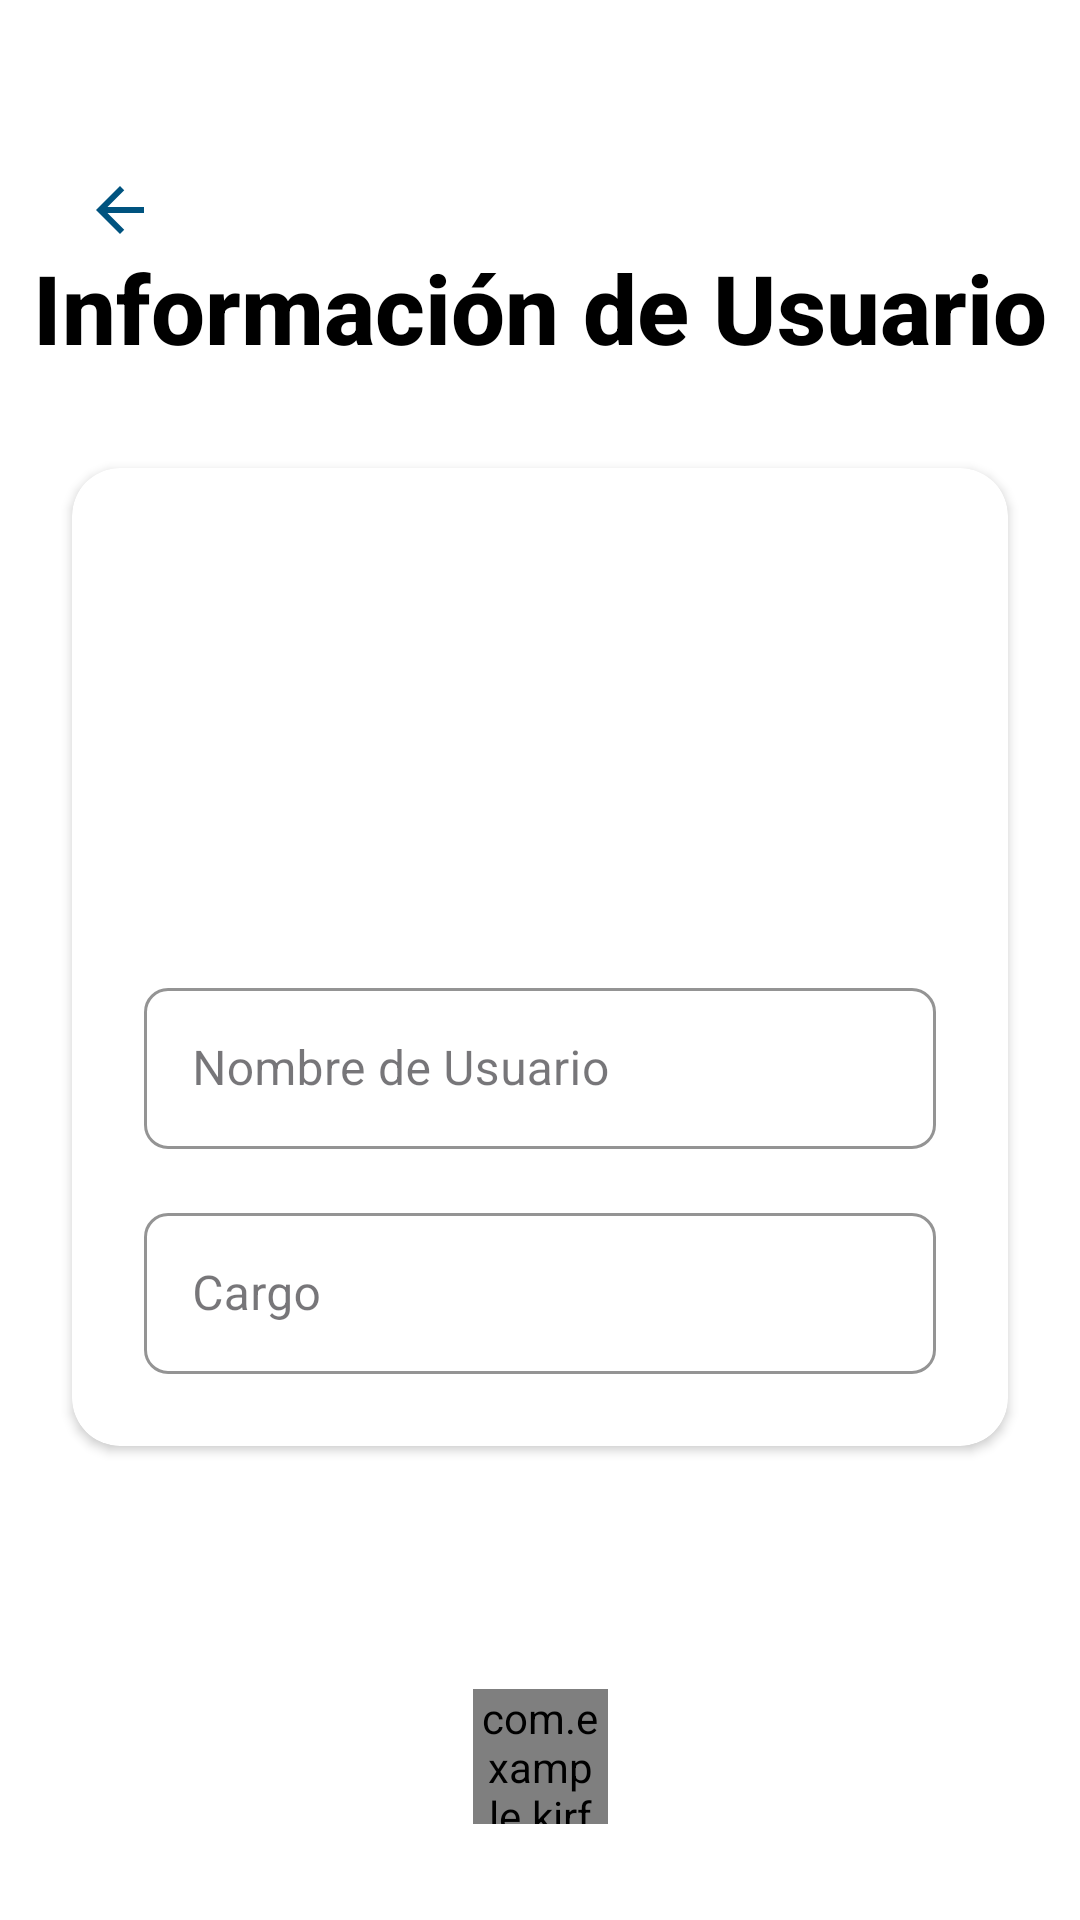

Named icons in this screenshot (1080×1920) and their bounding boxes, [left=x1, top=y1, right=x2, bottom=y2]:
Regresar: [left=96, top=186, right=144, bottom=234]
